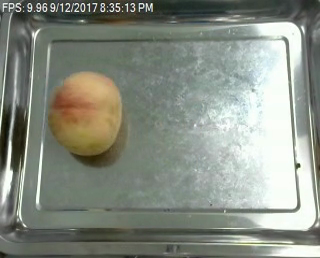Peach: (47, 70, 123, 156)
